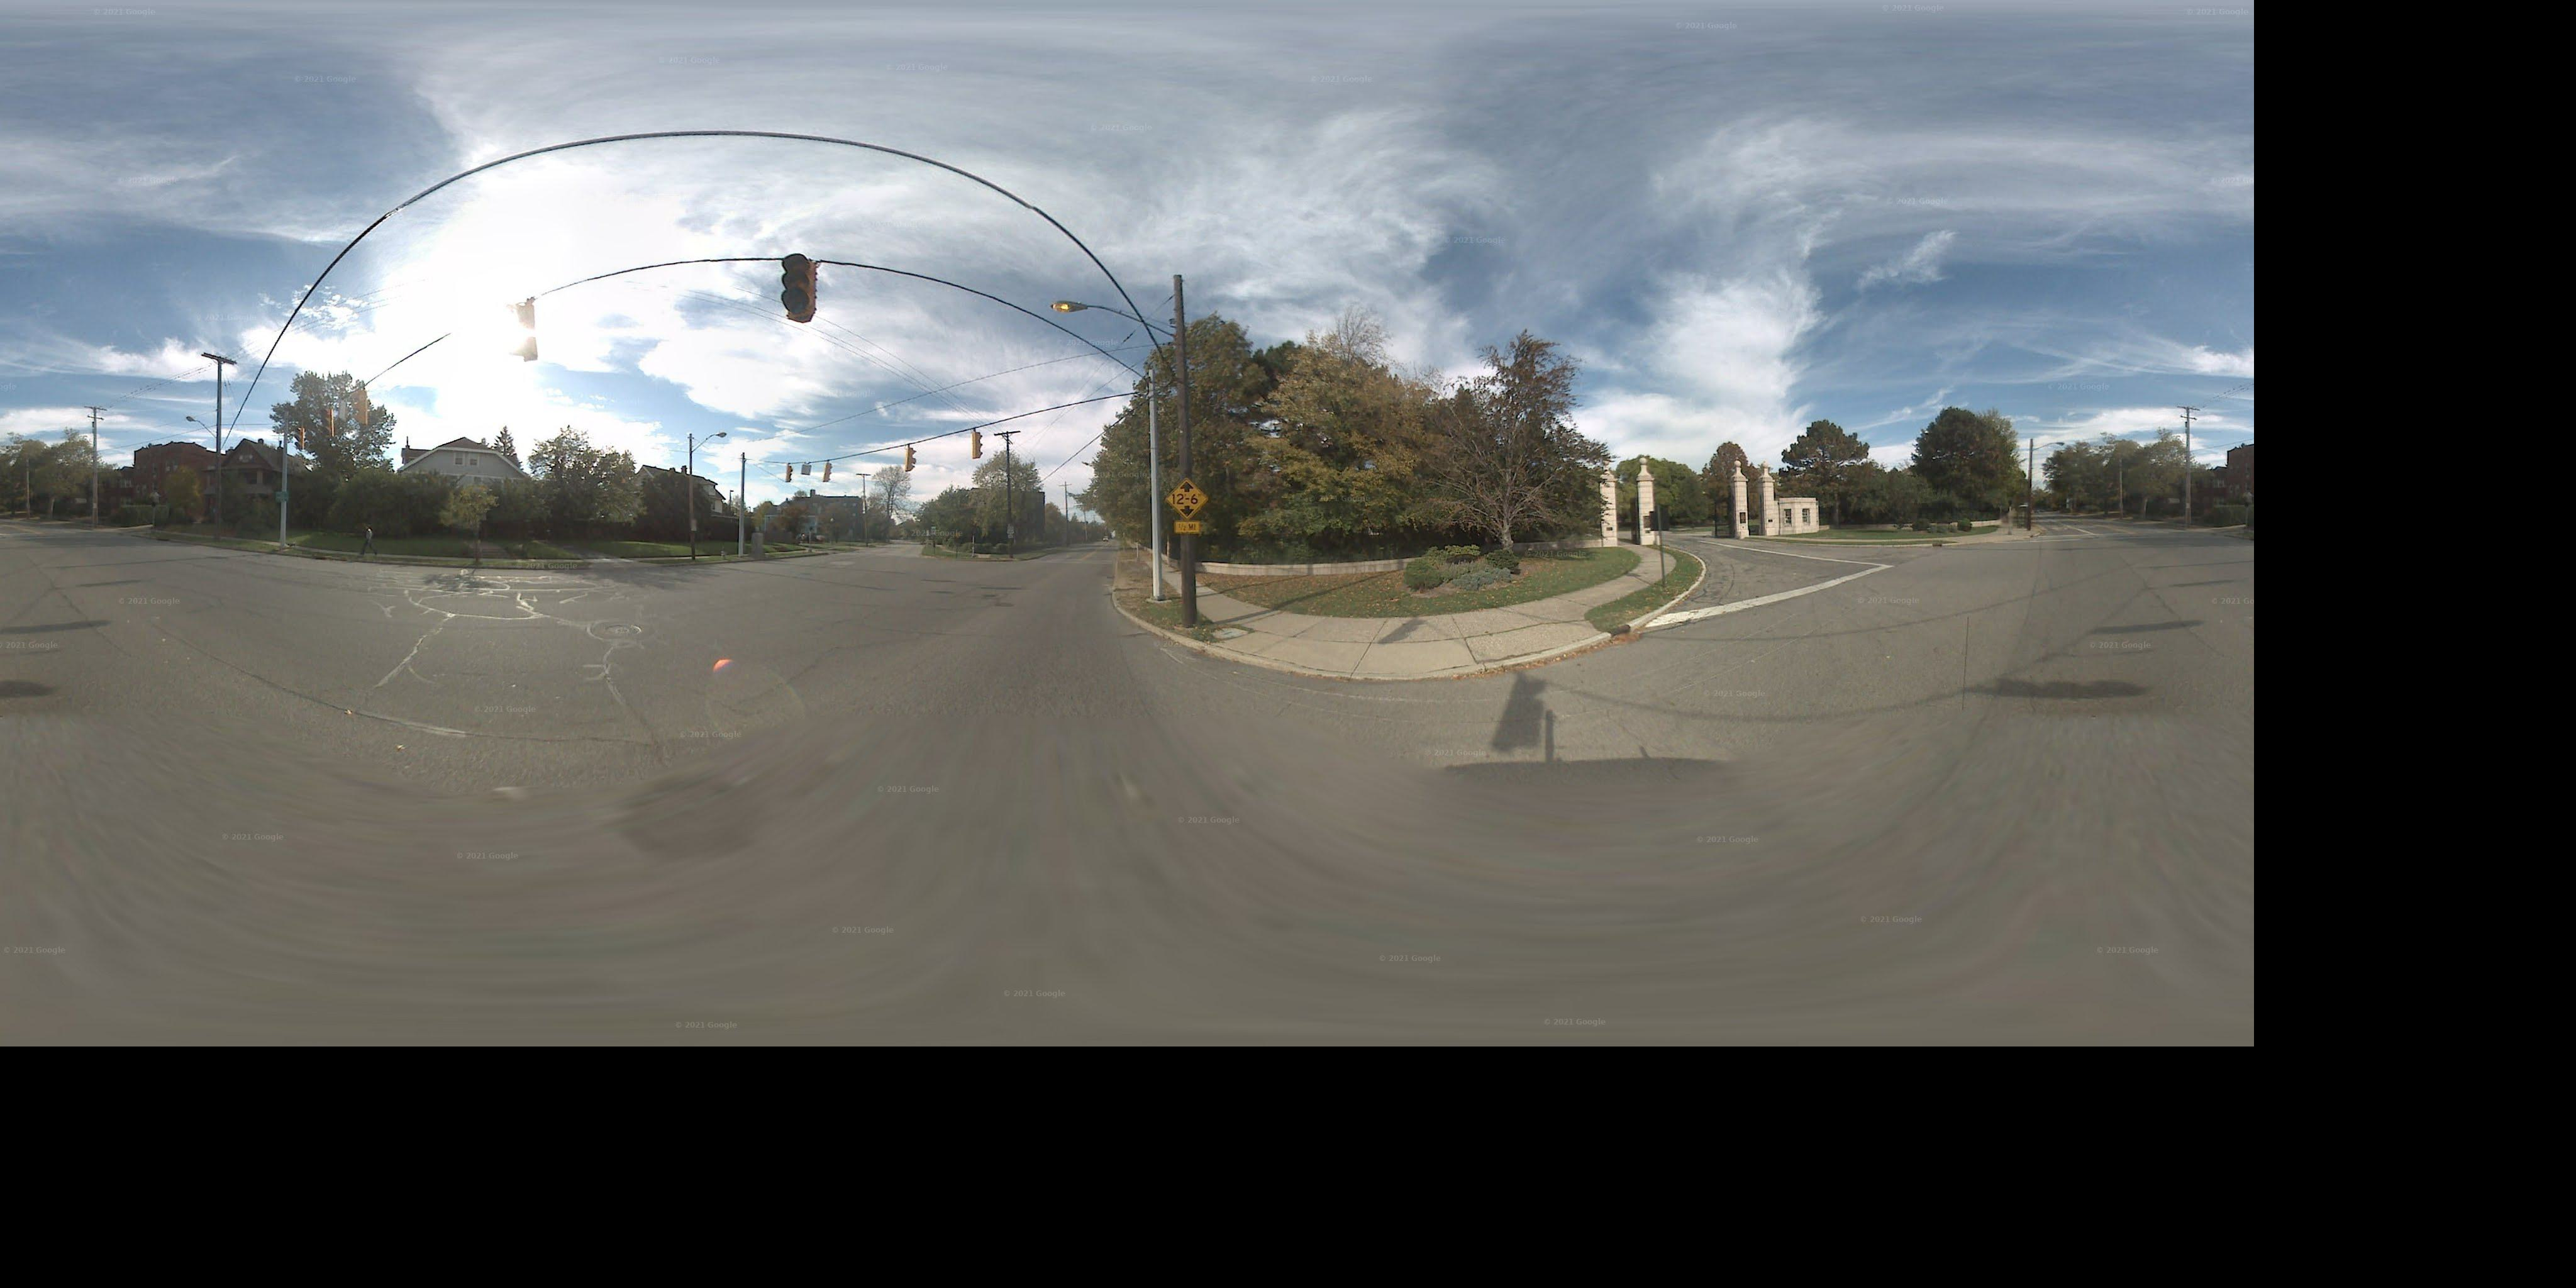Curb Ramp: (1290, 629, 1434, 713), (1971, 536, 2029, 549)
Missing Curb Ramp: (1487, 605, 1603, 680)
